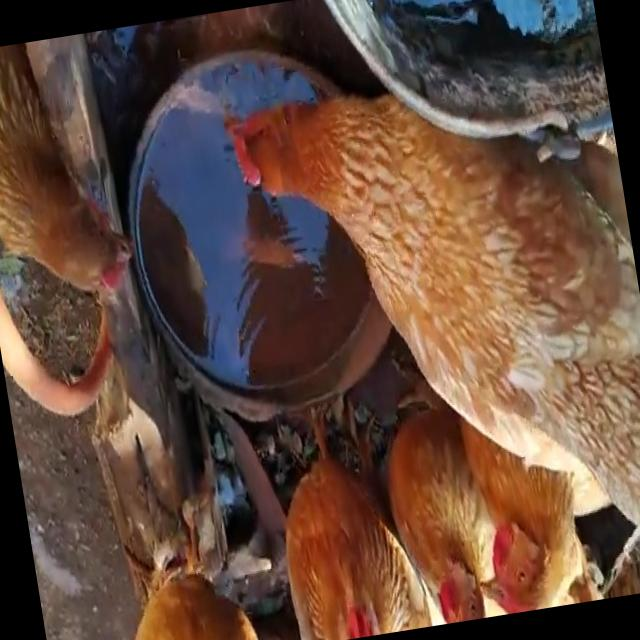drinking: (218, 15, 640, 640)
